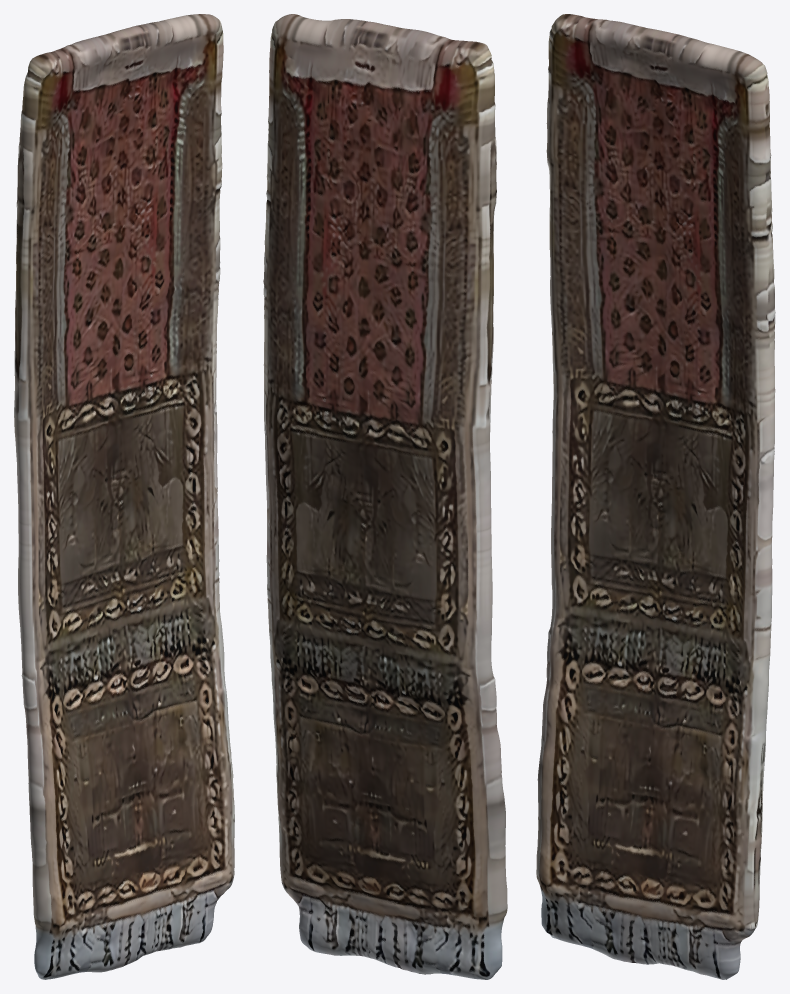
Rendered from kfl-2207.glb.
3 renders of one model, left to right at view 1: azimuth 30°, elevation 25°; view 2: azimuth 150°, elevation 25°; view 3: azimuth 330°, elevation 25°, orthographic. The views are drawn at different scales.
Visible parts, largest first — view 1: kfl-2207; view 2: kfl-2207; view 3: kfl-2207.
Boxes of the visible parts, x1,y1,x2,y2 form: kfl-2207: [14, 14, 234, 979]; kfl-2207: [263, 14, 507, 979]; kfl-2207: [536, 14, 775, 979].
Bounding box in the file's own units: 0.2358 × 0.9877 × 0.093.
1 material, 1 textured.
